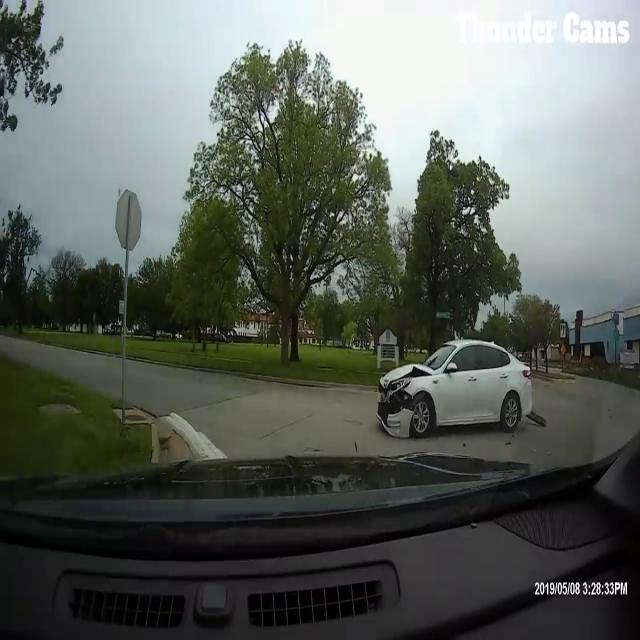accident: (361, 306, 551, 459)
